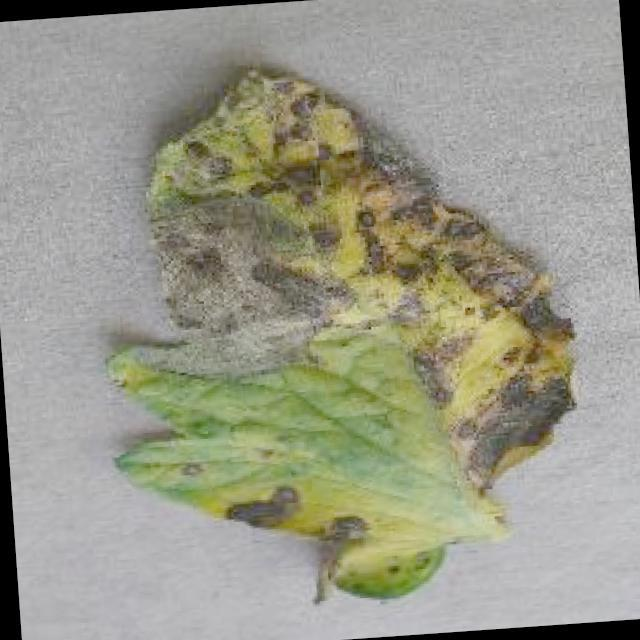Tomato Early blight leaf: (83, 42, 600, 623)
